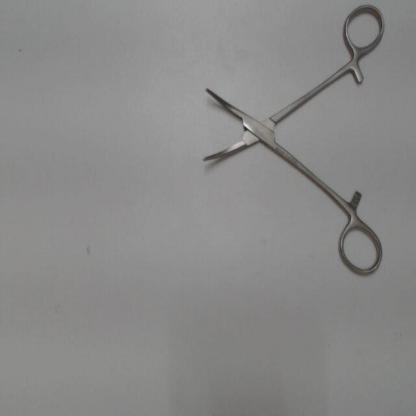Crile Artery Forceps: (196, 2, 386, 284)
